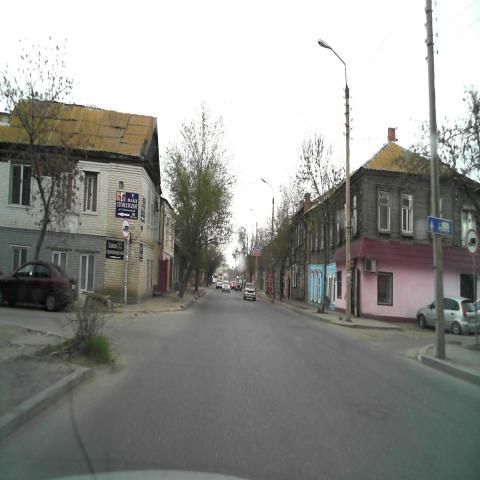3_4_1: (467, 228, 477, 254), (121, 219, 129, 240)
6_15_1: (428, 215, 452, 237)
